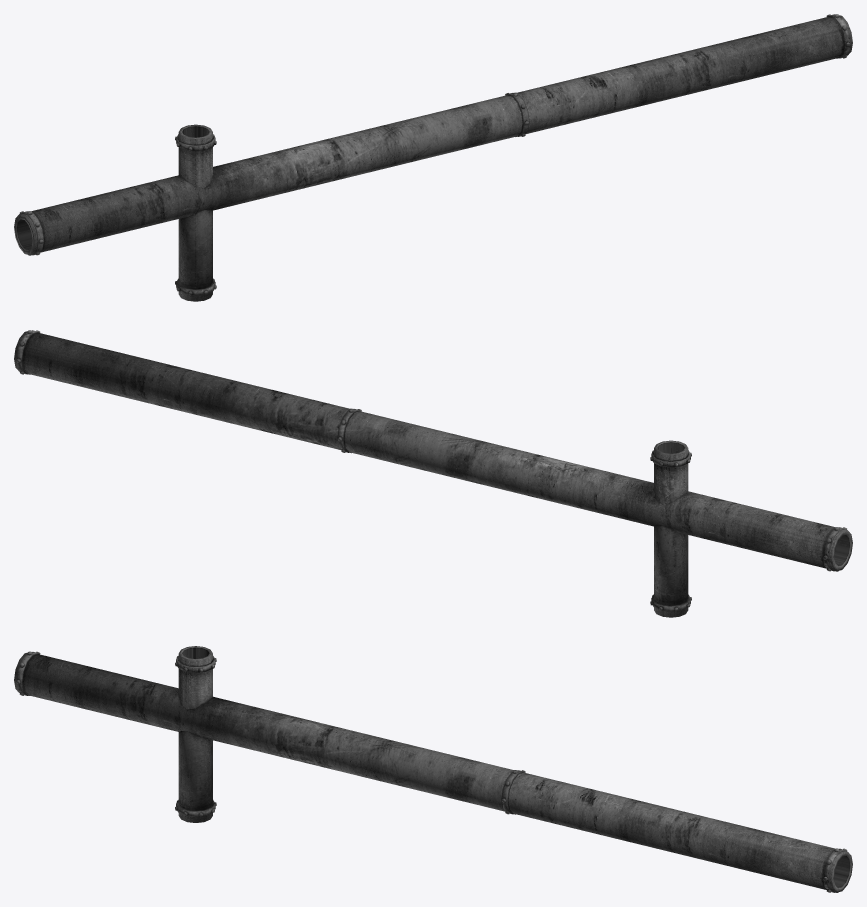
File: pipe obstacle.fbx
3 renders of one model, top to bottom at view 1: azimuth 30°, elevation 25°; view 2: azimuth 150°, elevation 25°; view 3: azimuth 330°, elevation 25°, orthographic.
Parts seen in each view (by area): view 1: Cylinder.003; view 2: Cylinder.003; view 3: Cylinder.003.
Part boxes in pixels (x1,y1,x2,y2): Cylinder.003: (14,14,852,301); Cylinder.003: (14,330,852,617); Cylinder.003: (14,646,852,892).
Bounding box in the file's own units: 4449 × 846 × 222.
